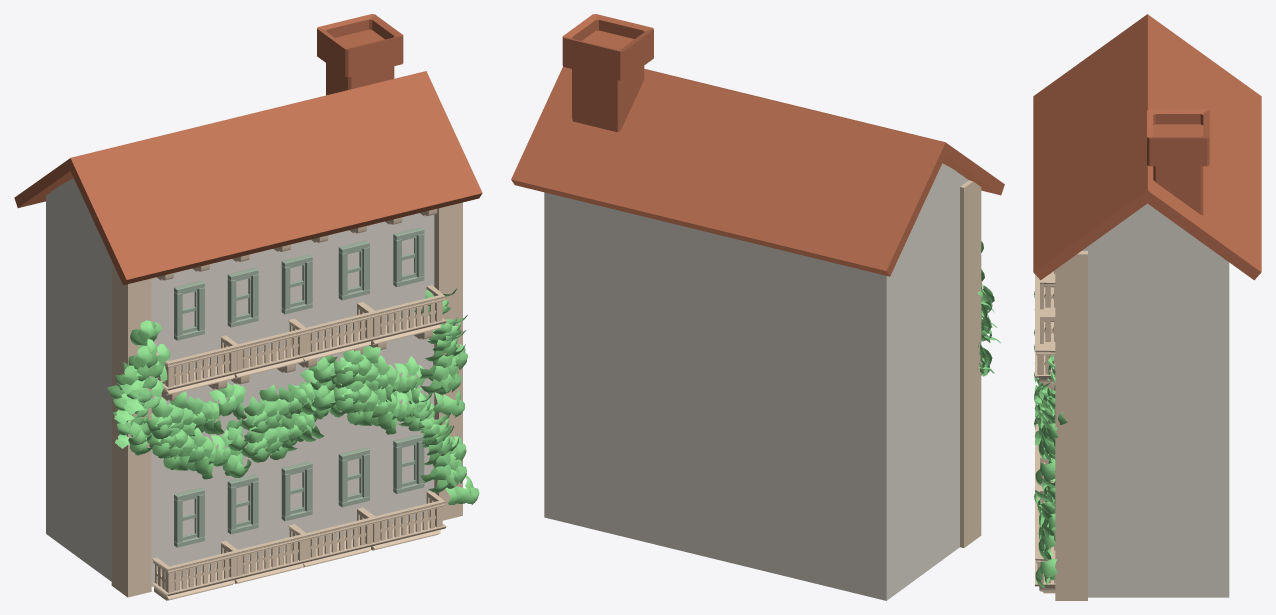
File: DowntownHouse2.fbx
The picture shows the model from 3 angles, left to right: view 1: azimuth 30°, elevation 25°; view 2: azimuth 150°, elevation 25°; view 3: azimuth 270°, elevation 25°; orthographic projection. The views are drawn at different scales.
Visible parts, largest first — view 1: pCube303; view 2: pCube303; view 3: pCube303.
Boxes of the visible parts, x1,y1,x2,y2 form: pCube303: [14, 14, 482, 600]; pCube303: [511, 14, 1004, 600]; pCube303: [1033, 14, 1261, 600].
Bounding box in the file's own units: 35.1 × 42.45 × 18.92.
